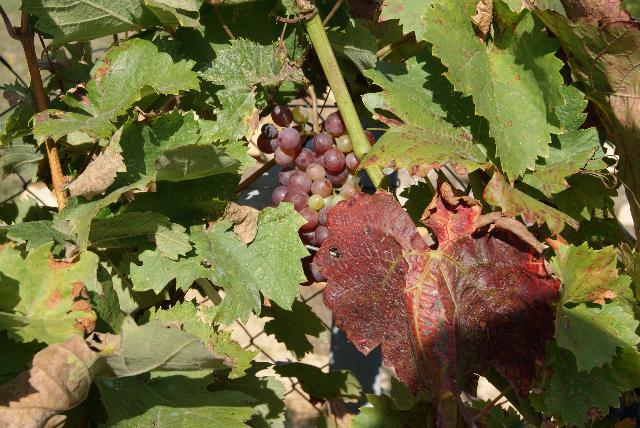grapes: (258, 105, 360, 244)
